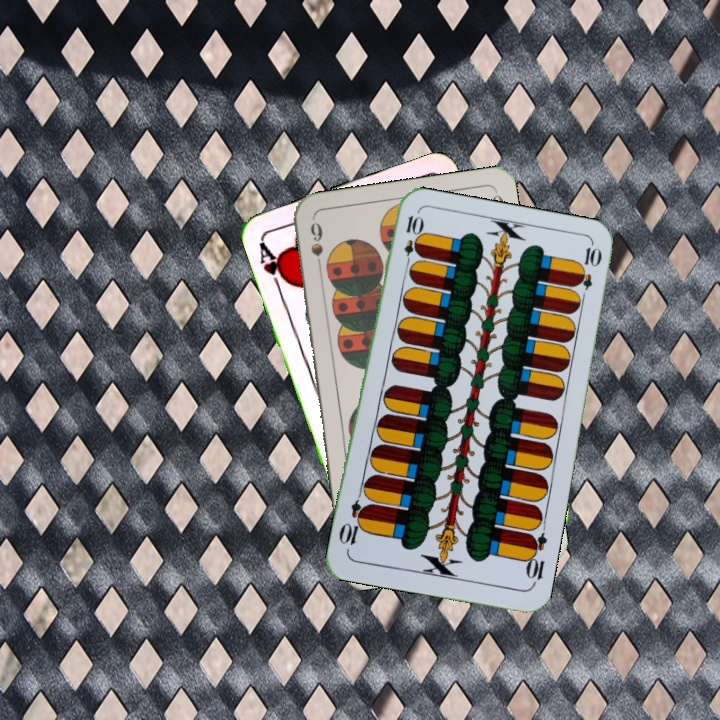E10: (521, 530, 550, 588), (399, 212, 423, 271)
HA: (254, 236, 293, 294)
S9: (306, 217, 326, 277)
